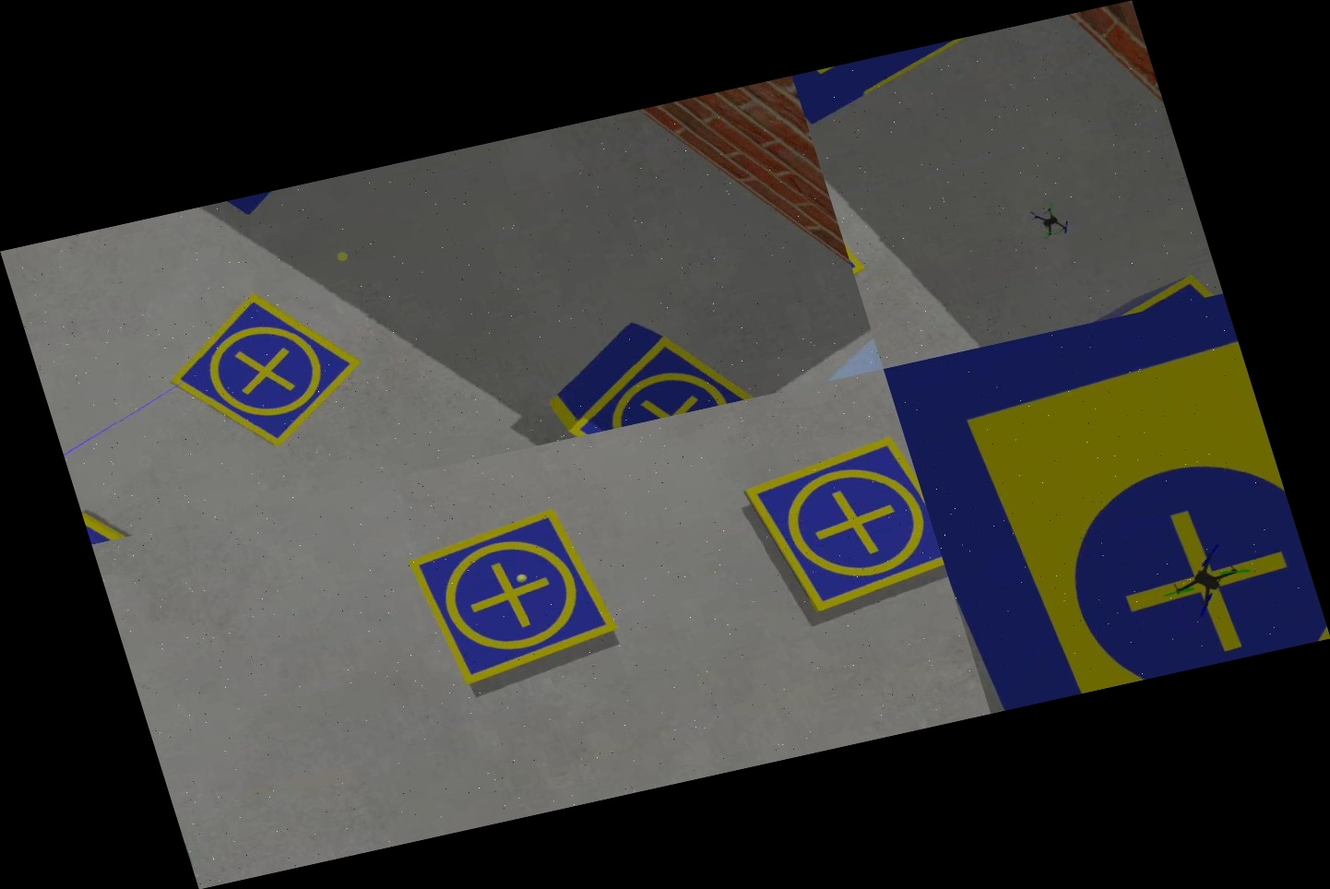large_base: (884, 293, 1330, 713), (792, 23, 1042, 124)
small_base: (150, 274, 386, 470), (402, 503, 628, 694), (734, 431, 952, 623), (547, 317, 768, 438), (81, 491, 176, 544)
